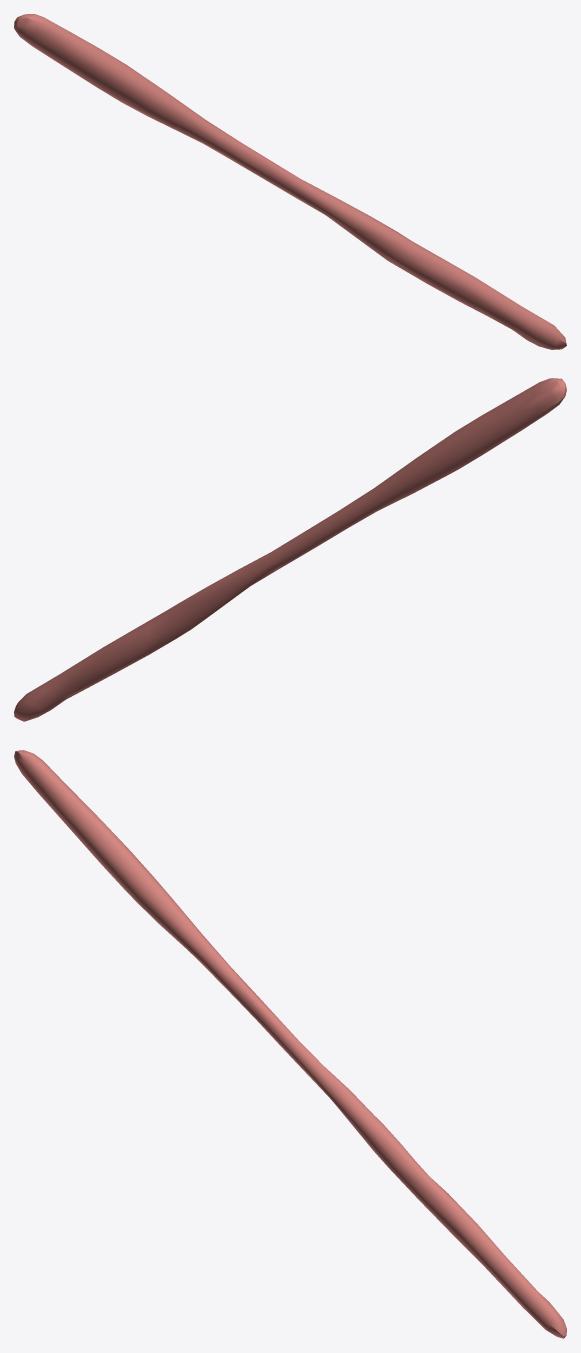
The model's file is fma65080_mm1410m.glb.
3 renders of one model, top to bottom at view 1: azimuth 30°, elevation 25°; view 2: azimuth 150°, elevation 25°; view 3: azimuth 330°, elevation 25°, orthographic.
Parts seen in each view (by area): view 1: FMA65080_MM1410M; view 2: FMA65080_MM1410M; view 3: FMA65080_MM1410M.
Part boxes in pixels (x1=…): FMA65080_MM1410M: x1=14, y1=14, x2=566, y2=349; FMA65080_MM1410M: x1=14, y1=378, x2=566, y2=721; FMA65080_MM1410M: x1=14, y1=750, x2=566, y2=1338.
Size of the model in its own units: 0.1114 by 0.0905 by 0.00669.
